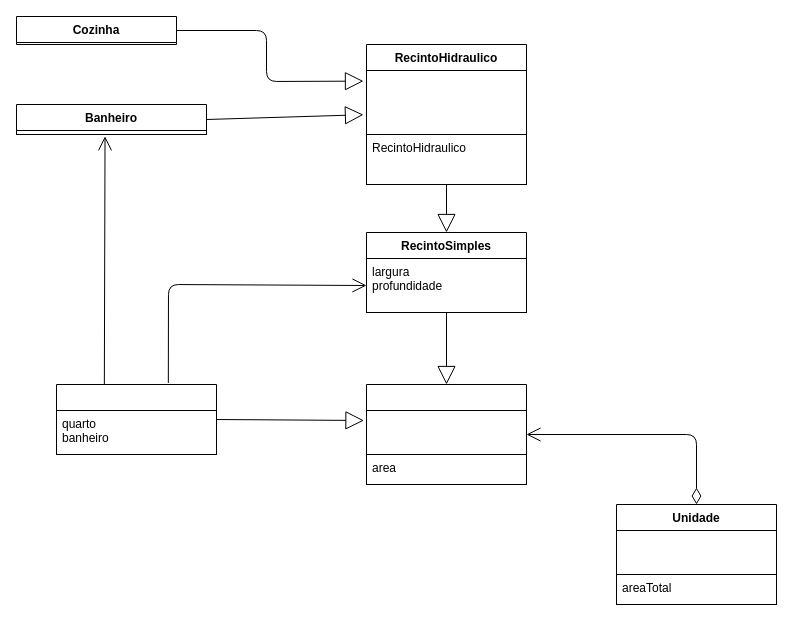
The diagram is 793 pixels wide and 621 high, and some of its shapes have lost their labels. The shapes that lost their labels are listed below. From the top down, each one's box as (x1, y1, x2, y2) in pixels, then its label:
(366, 70, 526, 134): numeroRegistros
(56, 384, 216, 454): Suite
(366, 410, 526, 454): nome
(366, 384, 526, 484): Recinto
(616, 530, 776, 574): recintos
